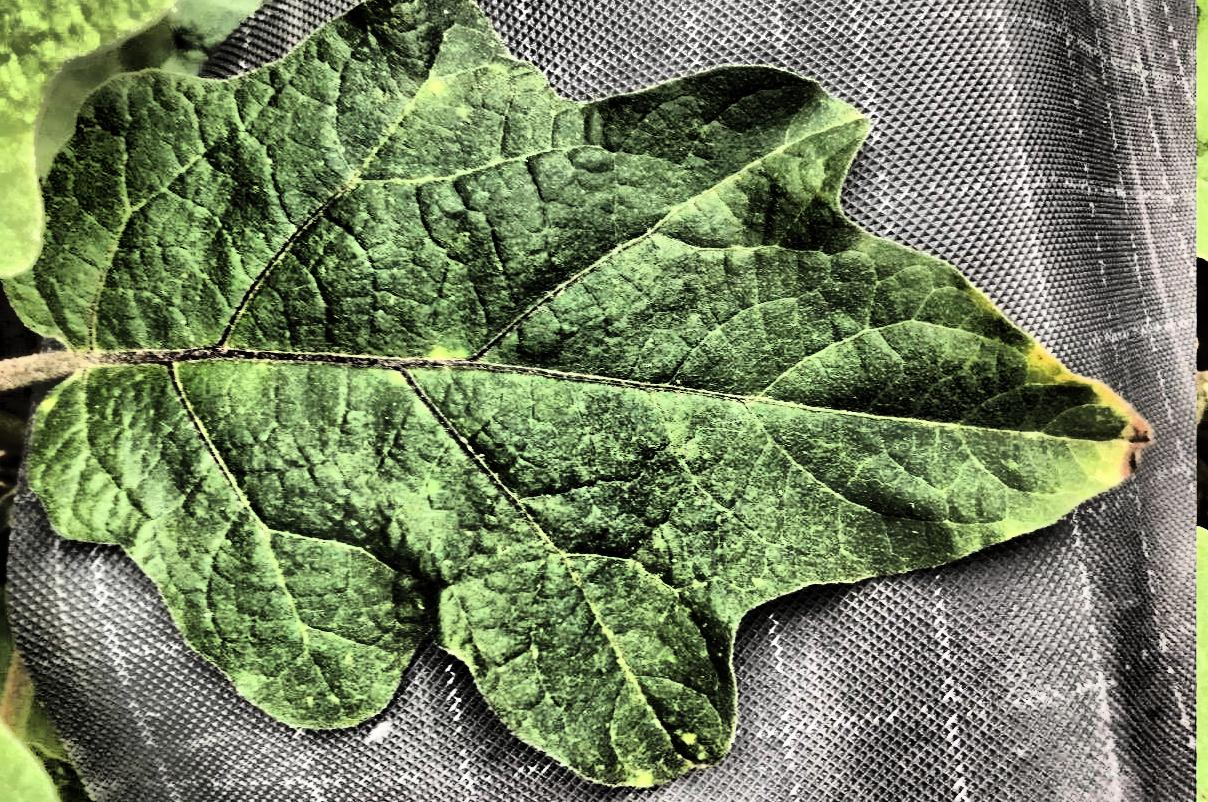Non-critical Stress: (1, 0, 1208, 802)
